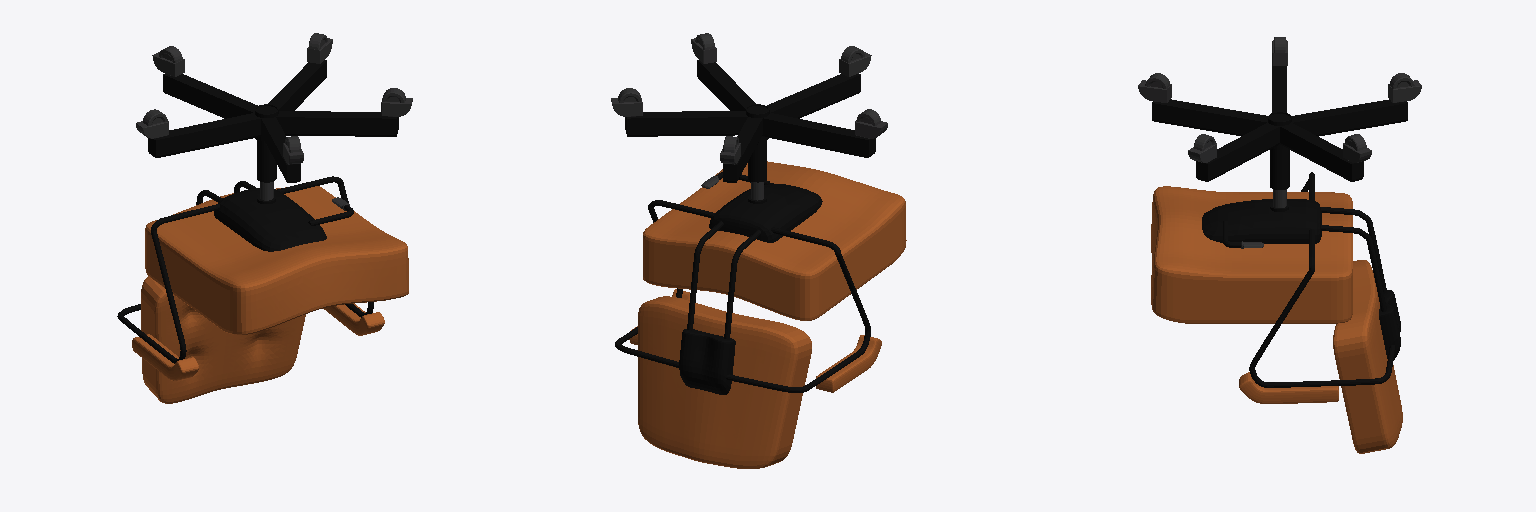
Rendered from chair2.obj.
3 views of the same model, side by side, from view 1: azimuth 30°, elevation 25°; view 2: azimuth 150°, elevation 25°; view 3: azimuth 270°, elevation 25° (orthographic).
Visible parts, largest first — view 1: Chair.obj; view 2: Chair.obj; view 3: Chair.obj.
Boxes of the visible parts, box(x1,y1,x2,y2) form: Chair.obj: box(117, 33, 412, 403); Chair.obj: box(611, 33, 906, 468); Chair.obj: box(1138, 37, 1421, 453).
Size of the model in its own units: 0.6284 by 0.8693 by 0.6607.